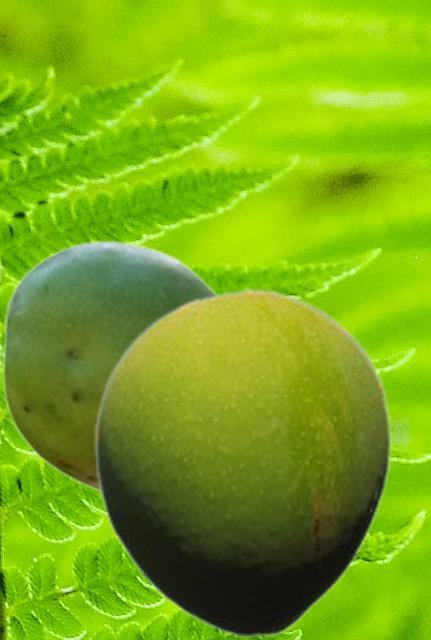green_mango: (93, 288, 392, 638), (1, 239, 216, 493)
